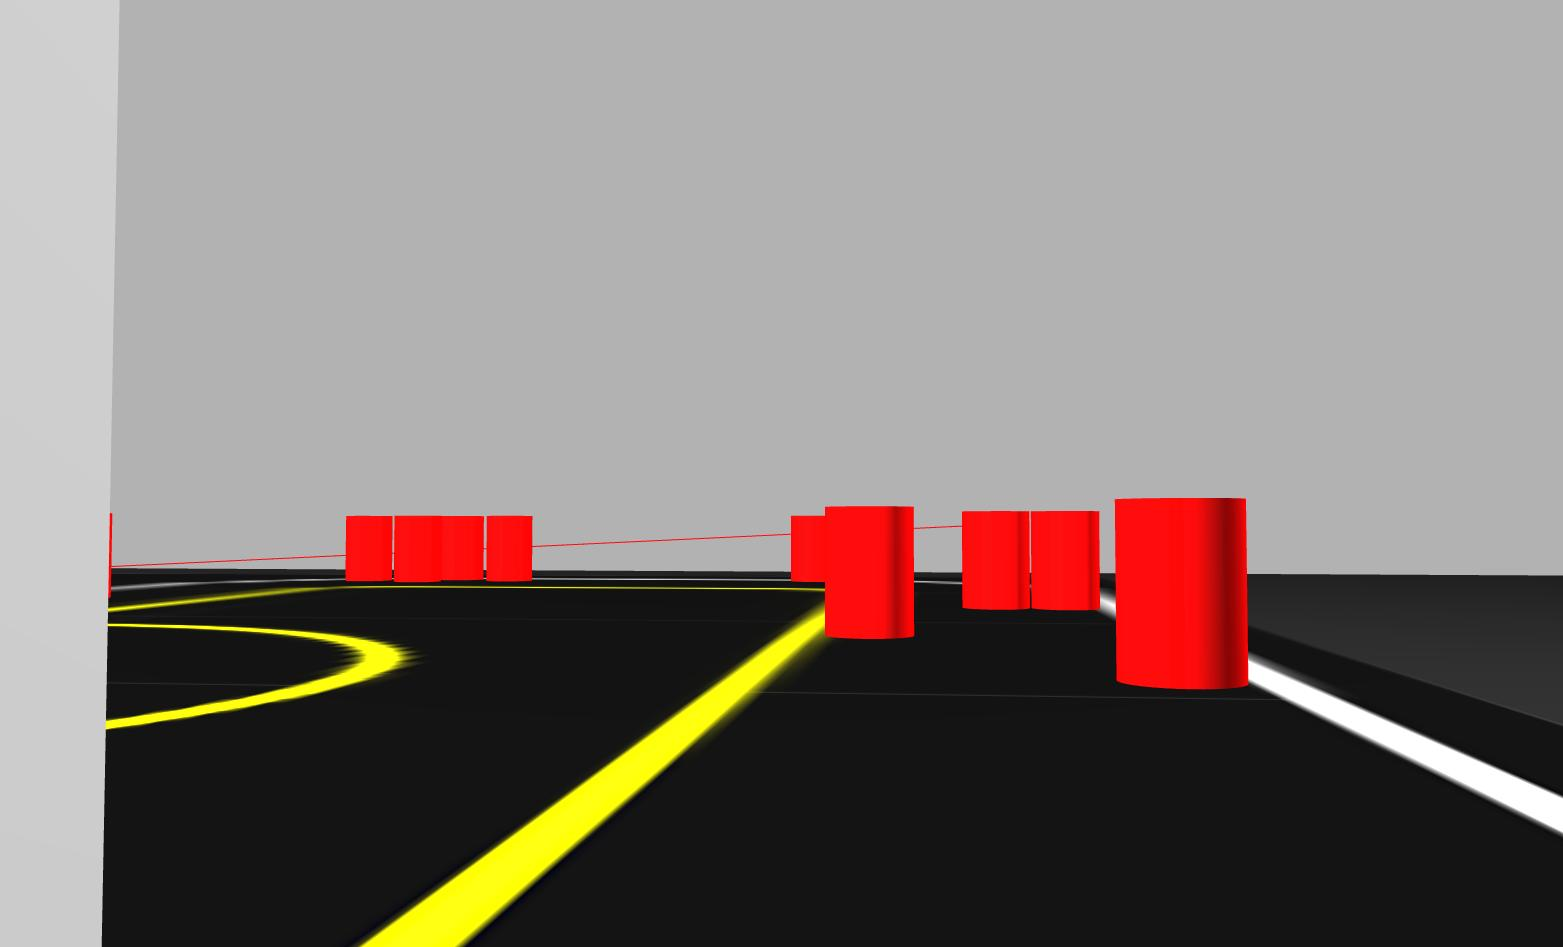obstacle: (1114, 496, 1248, 692), (822, 504, 917, 640), (1030, 509, 1103, 613), (960, 509, 1032, 612), (393, 514, 442, 584), (485, 514, 533, 582), (345, 514, 393, 582), (443, 514, 485, 581), (789, 514, 824, 584)
